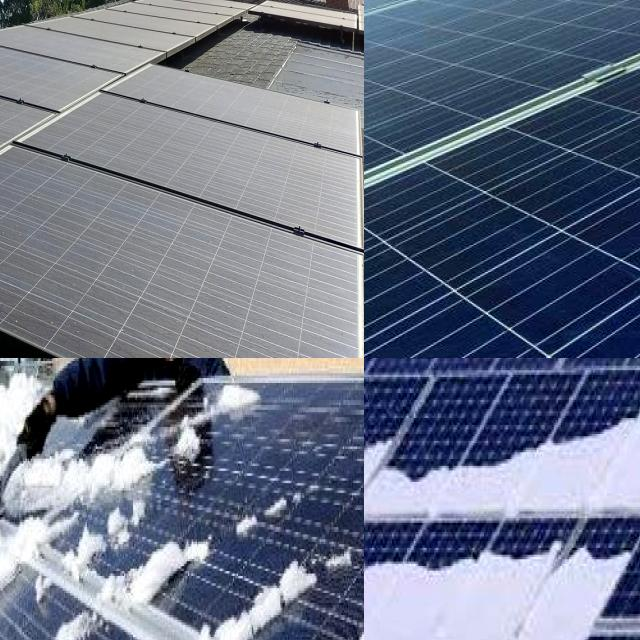crack: (364, 0, 640, 358)
dust: (3, 131, 168, 330), (181, 223, 329, 358), (195, 122, 348, 208), (0, 70, 62, 164), (0, 39, 71, 94), (76, 10, 189, 40), (129, 68, 164, 130)
panel: (46, 410, 152, 560), (233, 503, 347, 640), (120, 463, 212, 631), (0, 547, 108, 640), (175, 358, 264, 470), (417, 447, 545, 515), (551, 414, 625, 521), (233, 468, 300, 554), (473, 534, 567, 590), (559, 528, 637, 590), (394, 540, 484, 592), (364, 428, 411, 518), (364, 536, 392, 595)
